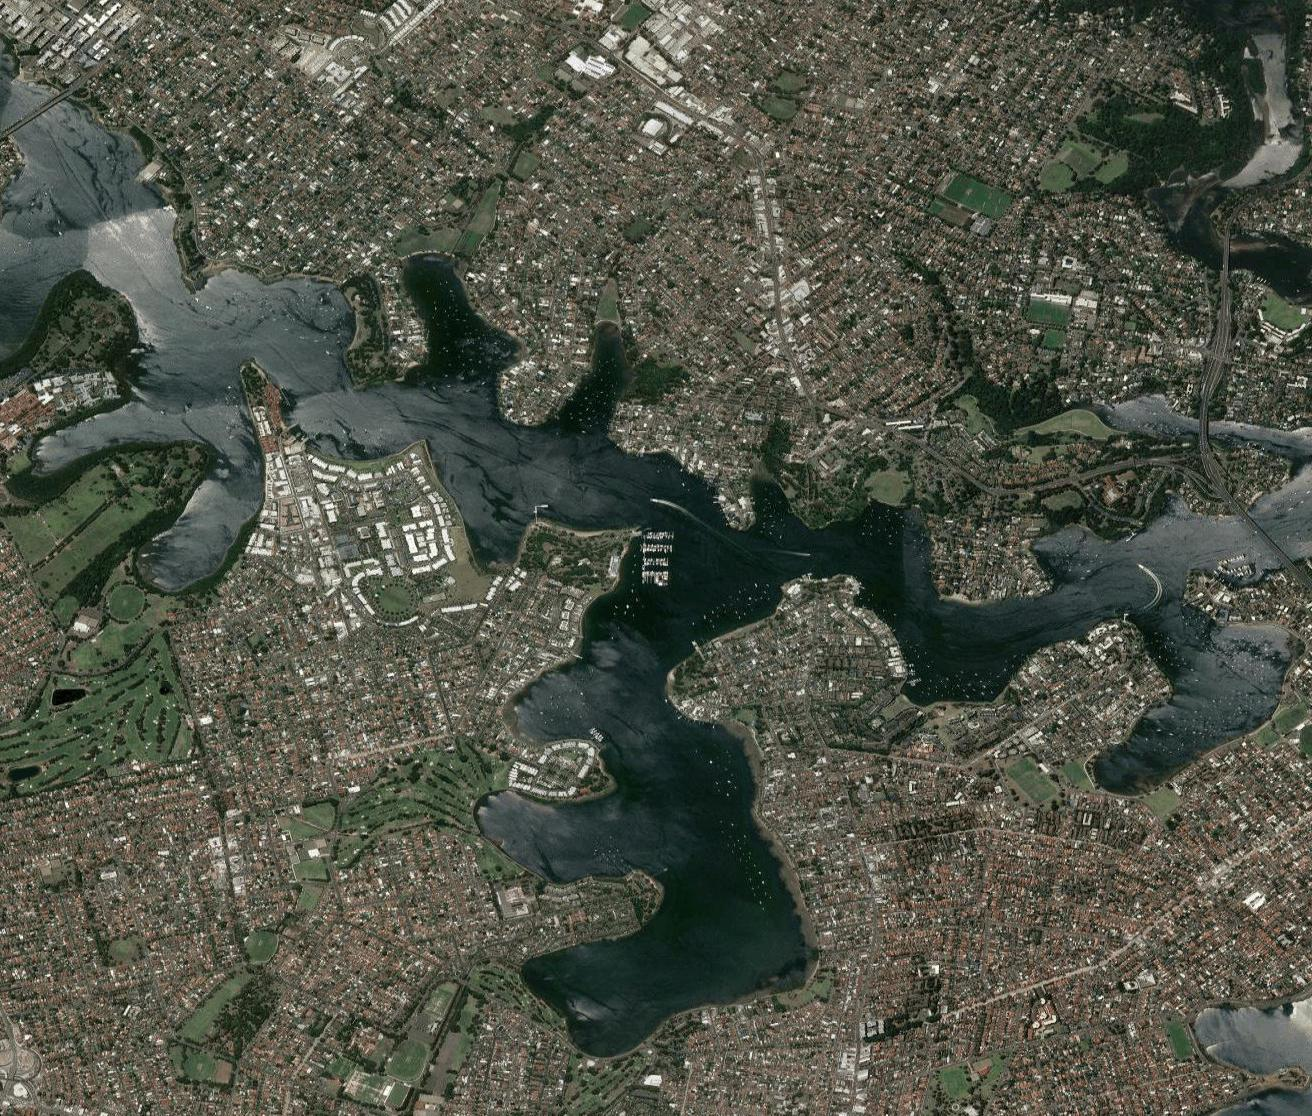bridge: (1236, 503, 1288, 564)
harbor: (633, 515, 682, 596)
industrial: (627, 2, 705, 84)
motorway: (1216, 485, 1303, 576), (1216, 213, 1239, 304), (1210, 302, 1233, 393), (1196, 391, 1219, 482)
